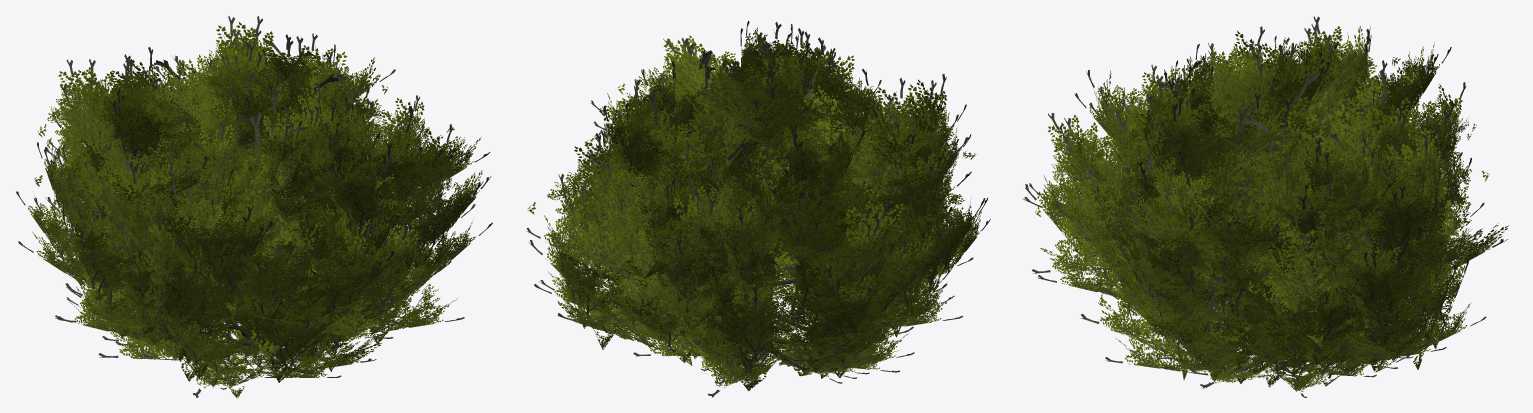
The model's file is bush.glb.
3 views of the same model, side by side, from view 1: azimuth 30°, elevation 25°; view 2: azimuth 150°, elevation 25°; view 3: azimuth 270°, elevation 25° (orthographic). The views are drawn at different scales.
Parts seen in each view (by area): view 1: bush; view 2: bush; view 3: bush.
Boxes of the visible parts, x1,y1,x2,y2 form: bush: (16,16,492,398); bush: (526,21,990,397); bush: (1022,16,1508,397).
Bounding box in the file's own units: 4.49 × 3.6 × 4.77.
Materials: 2 (2 with a texture image).
